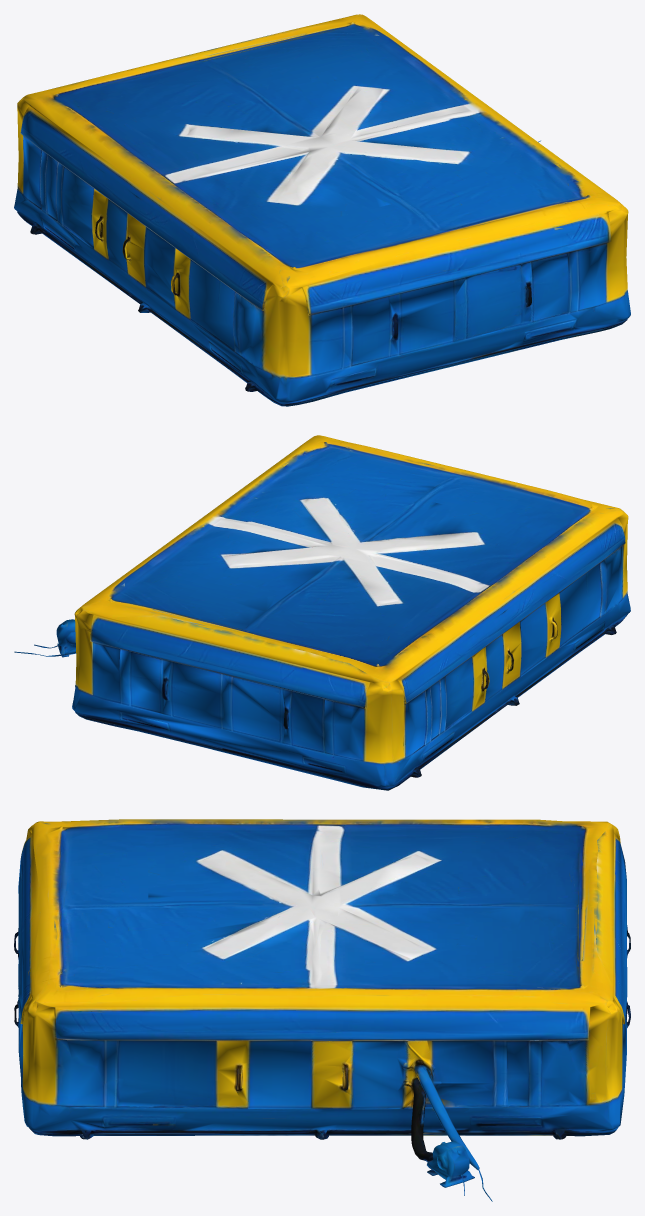
File: airbag.glb
The picture shows the model from 3 angles, top to bottom: view 1: azimuth 30°, elevation 25°; view 2: azimuth 150°, elevation 25°; view 3: azimuth 270°, elevation 25°; orthographic projection. The views are drawn at different scales.
Parts seen in each view (by area): view 1: node_0; view 2: node_0; view 3: node_0.
Boxes of the visible parts, <box> form: node_0: <box>14,14,630,406</box>; node_0: <box>14,435,630,790</box>; node_0: <box>14,819,630,1201</box>.
Bounding box in the file's own units: 0.8821 × 0.221 × 0.8847.
Materials: 1 (1 with a texture image).
